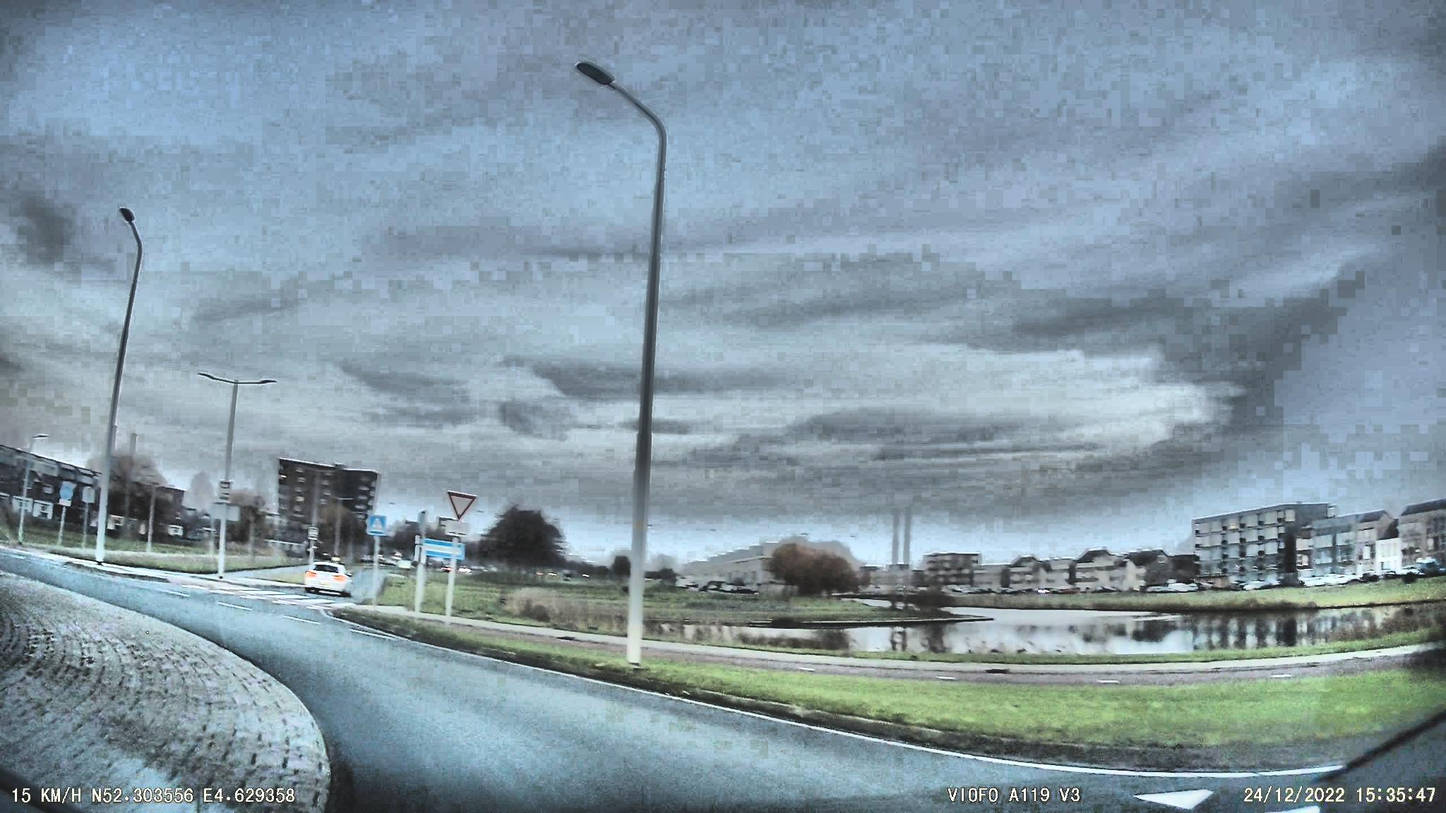Roads: (0, 551, 1446, 813)
